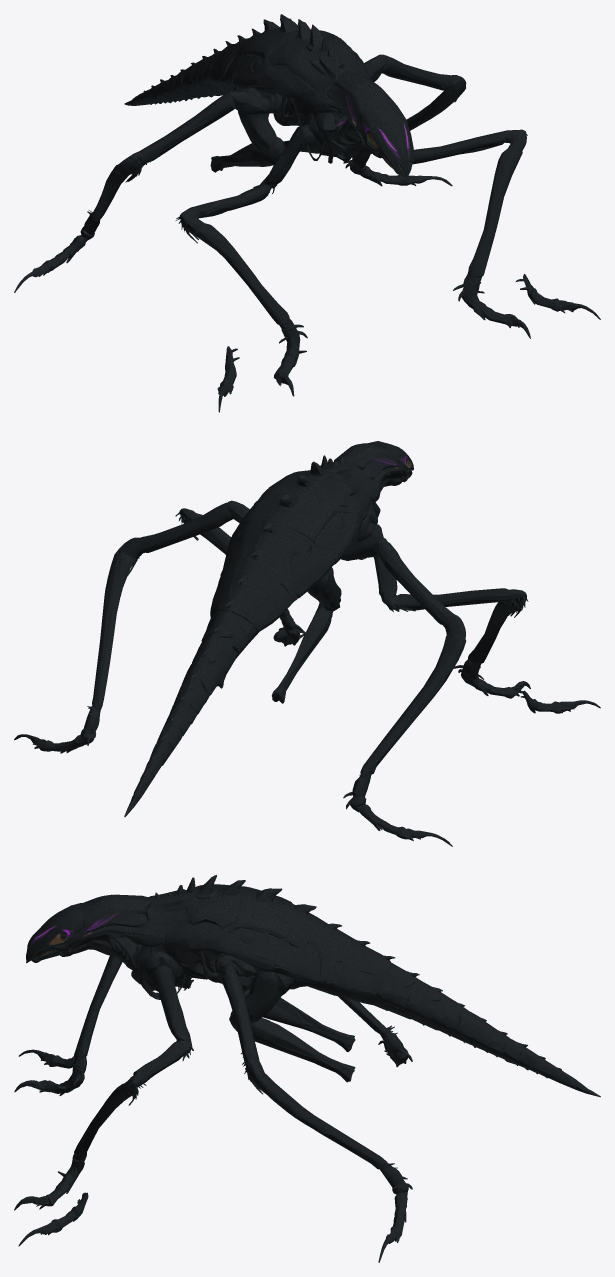
File: ravener.glb
3 views of the same model, one above another, from view 1: azimuth 30°, elevation 25°; view 2: azimuth 150°, elevation 25°; view 3: azimuth 270°, elevation 25° (orthographic). The views are drawn at different scales.
Bounding box in the file's own units: 1.67 × 0.9972 × 1.9.
1 material, 1 textured.
